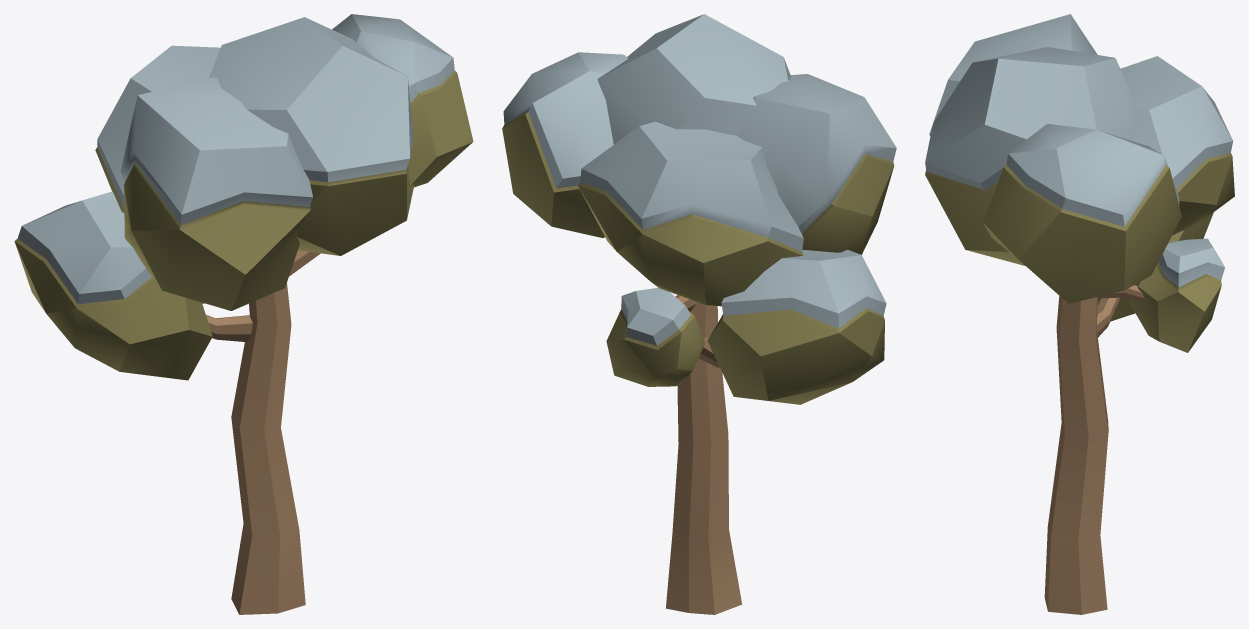
File: Geo_TreeGreen.fbx
3 renders of one model, left to right at view 1: azimuth 30°, elevation 25°; view 2: azimuth 150°, elevation 25°; view 3: azimuth 270°, elevation 25°, orthographic. The views are drawn at different scales.
Parts seen in each view (by area): view 1: AutumnTreeGreen_Mesh; view 2: AutumnTreeGreen_Mesh; view 3: AutumnTreeGreen_Mesh.
Part boxes in pixels (bbox=[...]): AutumnTreeGreen_Mesh: bbox=[14, 14, 473, 614]; AutumnTreeGreen_Mesh: bbox=[502, 14, 896, 614]; AutumnTreeGreen_Mesh: bbox=[925, 14, 1234, 614].
Bounding box in the file's own units: 400 × 575 × 289.
